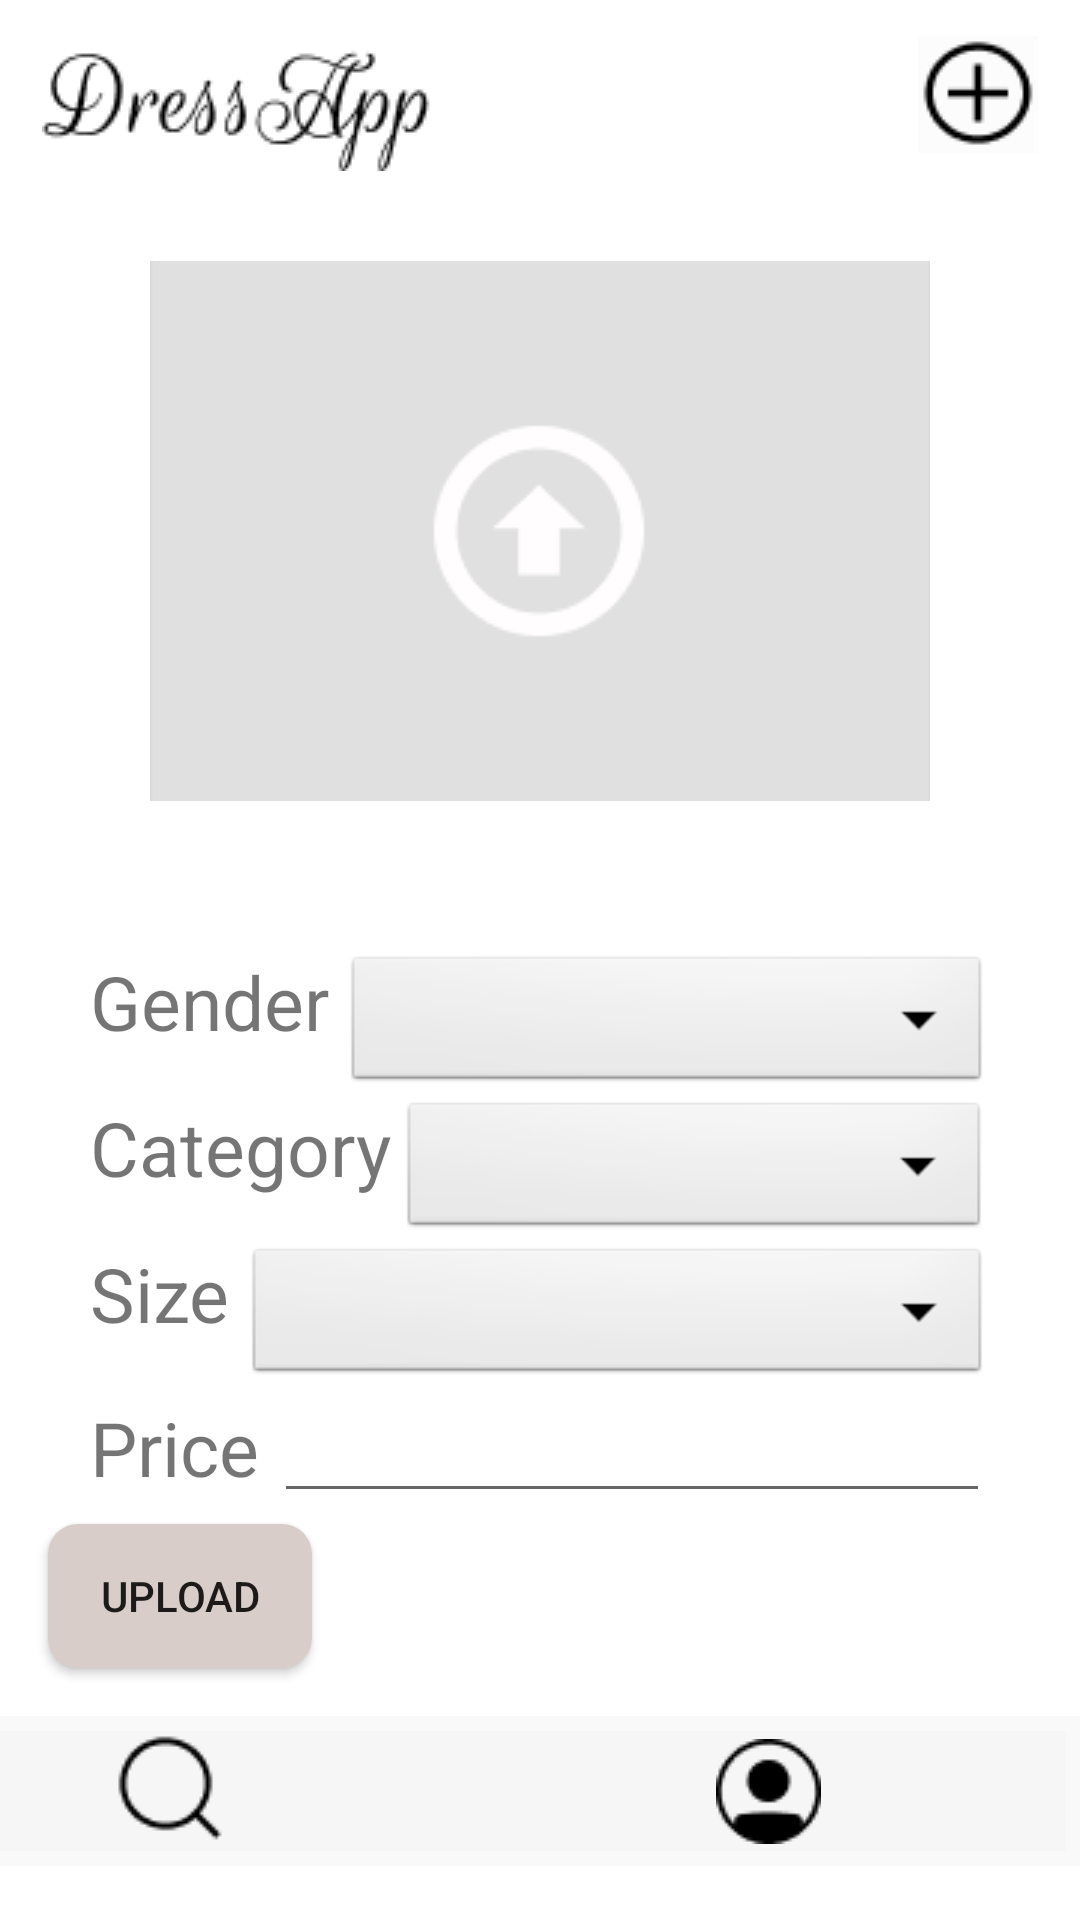

Named icons in this screenshot (1080w x 1920h) and their centers, [x,y]:
add product: [978,93]
profile: [768,1791]
